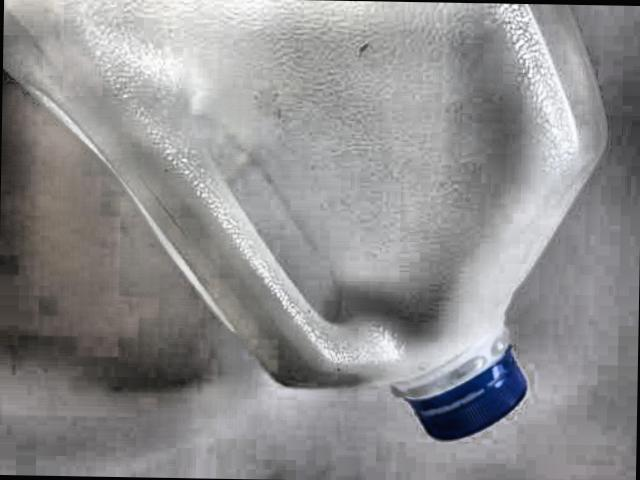Plastic: (0, 0, 623, 461)
